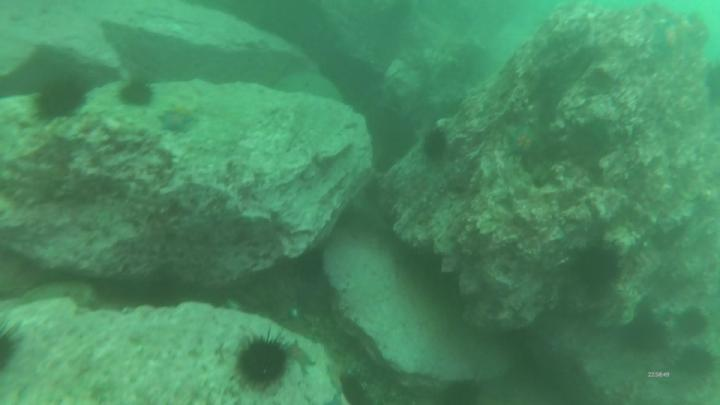echinus: (241, 342, 286, 381), (624, 316, 667, 353), (579, 247, 618, 286), (37, 82, 78, 115), (679, 348, 715, 377), (676, 307, 709, 337), (121, 83, 152, 107), (423, 132, 444, 156)
starfish: (506, 130, 541, 159), (156, 113, 192, 133)
